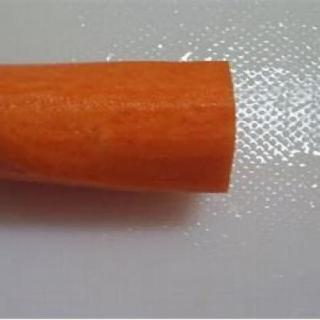carrot: (0, 41, 246, 207)
